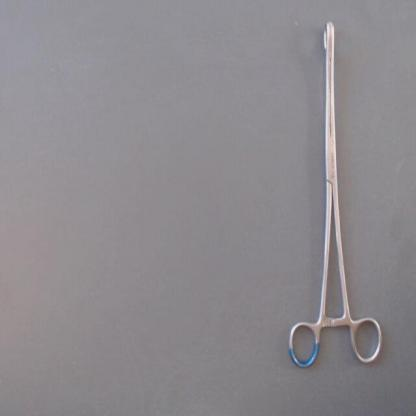Sponge Forceps: (284, 13, 386, 374)
